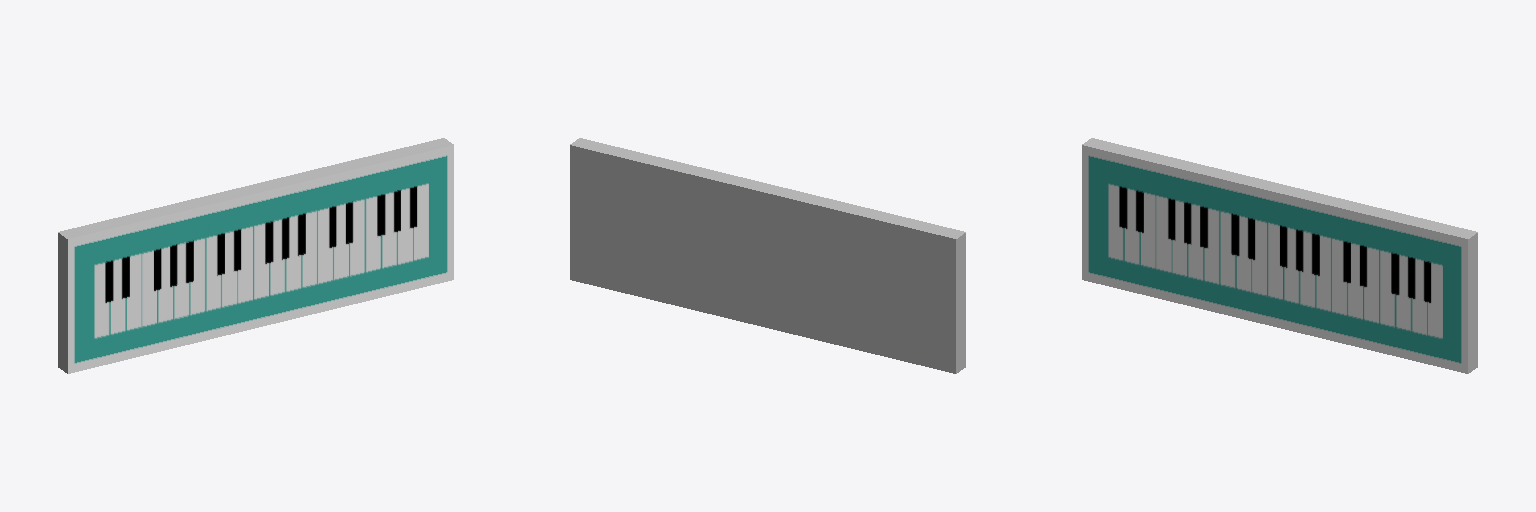
3 views of the same model, side by side, from view 1: azimuth 30°, elevation 25°; view 2: azimuth 150°, elevation 25°; view 3: azimuth 330°, elevation 25° (orthographic).
Visible parts, largest first — view 1: Cube; view 2: Cube; view 3: Cube.
Part boxes in pixels (left/top/right/bottom): Cube: left=58, top=138, right=453, bottom=373; Cube: left=570, top=138, right=965, bottom=373; Cube: left=1082, top=138, right=1477, bottom=373.
Bounding box in the file's own units: 2.25 × 0.75 × 0.1.
Materials: 2 (1 with a texture image).